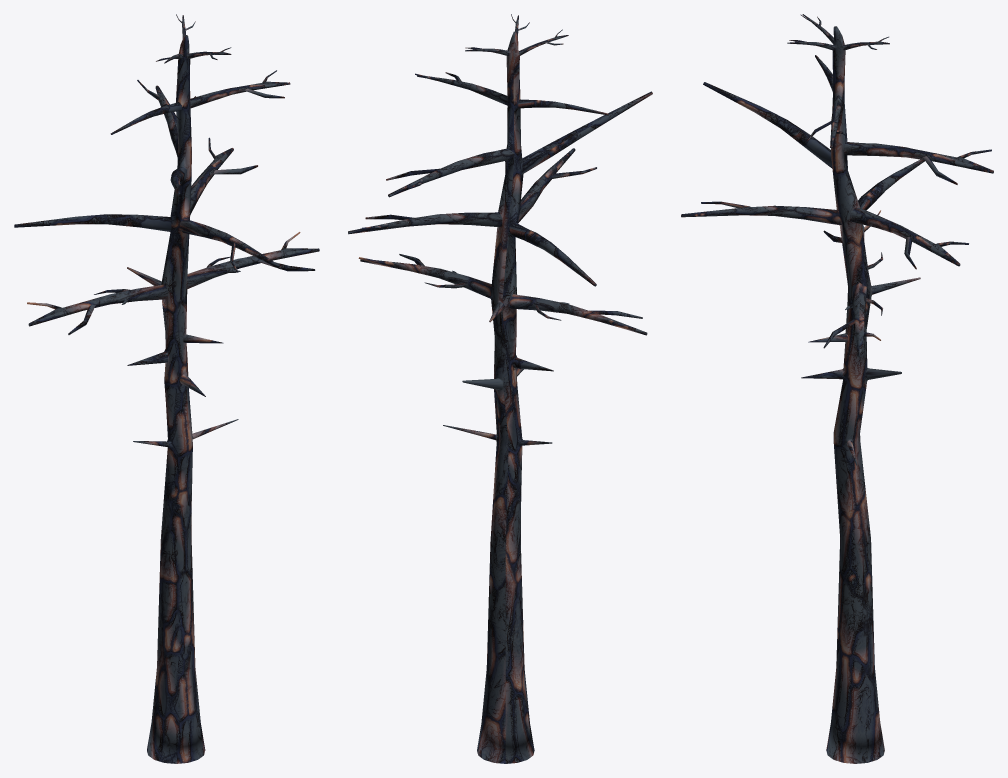
Rendered from SapinsansFeuille.fbx.
The picture shows the model from 3 angles, left to right: view 1: azimuth 30°, elevation 25°; view 2: azimuth 150°, elevation 25°; view 3: azimuth 270°, elevation 25°; orthographic projection.
Visible parts, largest first — view 1: polySurface100; view 2: polySurface100; view 3: polySurface100.
Boxes of the visible parts, box(x1,y1,x2,y2) form: polySurface100: box(14, 14, 319, 763); polySurface100: box(348, 14, 652, 763); polySurface100: box(681, 14, 993, 763).
Size of the model in its own units: 490 by 1169 by 457.
